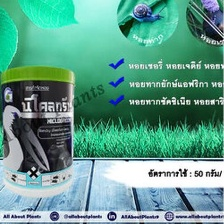insecticide: (0, 63, 78, 201)
